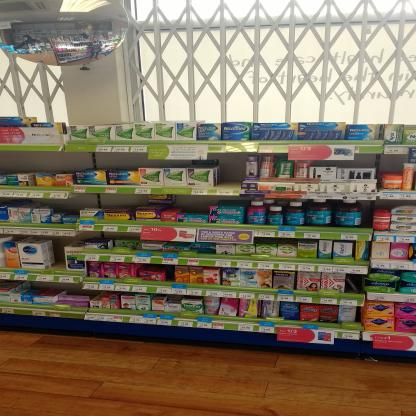Void: (0, 152, 71, 173), (76, 194, 143, 210), (84, 155, 138, 169), (221, 153, 241, 189), (50, 239, 66, 267), (180, 196, 205, 212)
